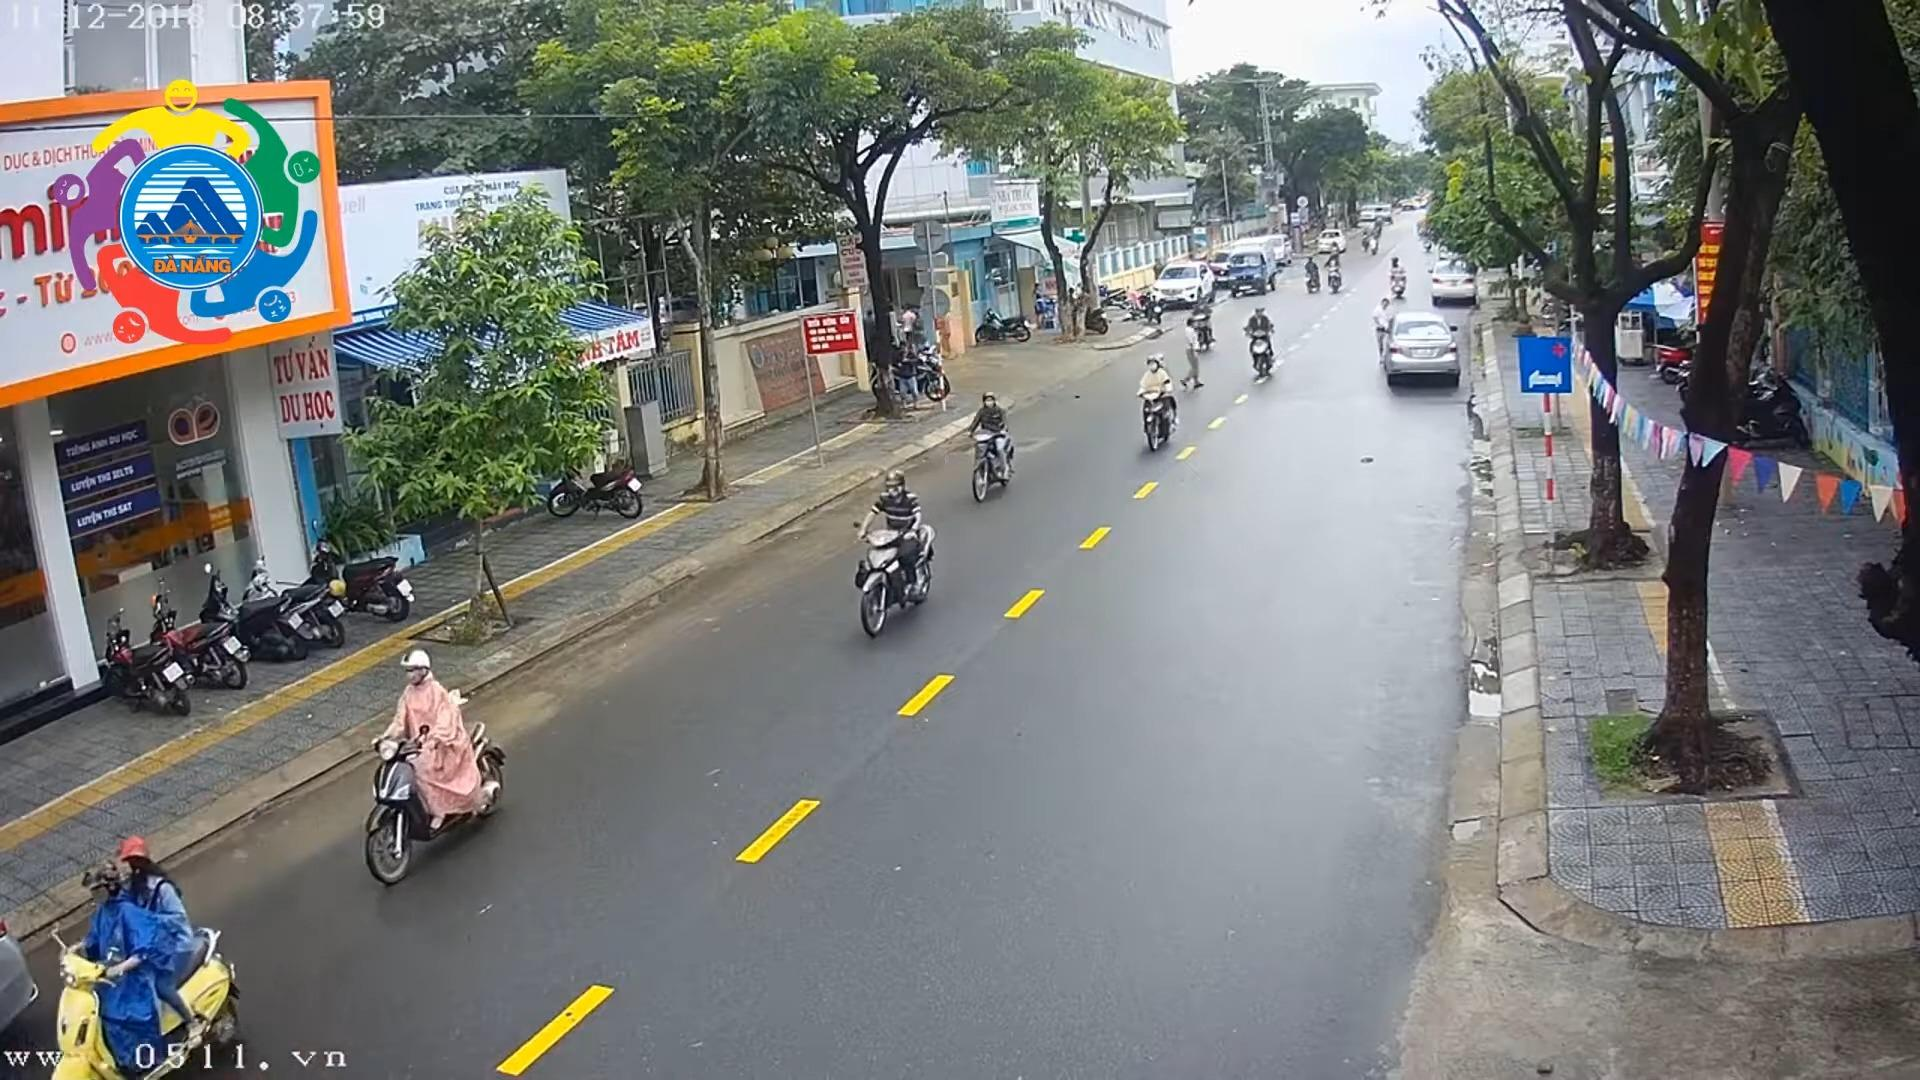car: (1381, 302, 1460, 380), (1143, 253, 1221, 310), (1427, 245, 1481, 311), (1316, 225, 1346, 255)
motorcycle: (44, 823, 248, 1080), (353, 641, 514, 895), (848, 458, 939, 640), (94, 605, 196, 720), (194, 560, 309, 662), (146, 584, 245, 698), (305, 522, 410, 628), (243, 553, 347, 651), (956, 376, 1026, 509), (1120, 349, 1191, 460), (545, 456, 645, 529), (862, 344, 949, 406), (1242, 299, 1282, 384), (971, 309, 1038, 349), (1182, 291, 1222, 357), (1382, 252, 1412, 302), (1320, 245, 1345, 298), (1302, 252, 1323, 299)
truck: (1224, 231, 1283, 299)
